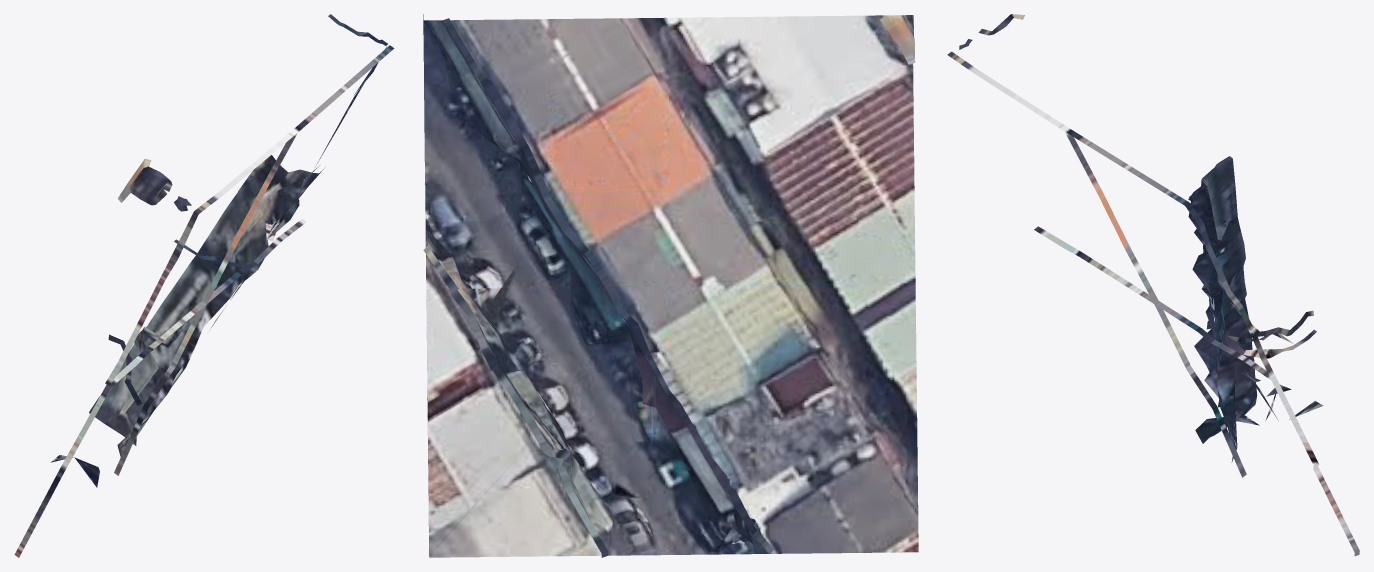
3 views of the same model, side by side, from view 1: azimuth 30°, elevation 25°; view 2: azimuth 150°, elevation 25°; view 3: azimuth 270°, elevation 25° (orthographic). The views are drawn at different scales.
Size of the model in its own units: 37.97 by 37.23 by 32.67.
1 material, 1 textured.
